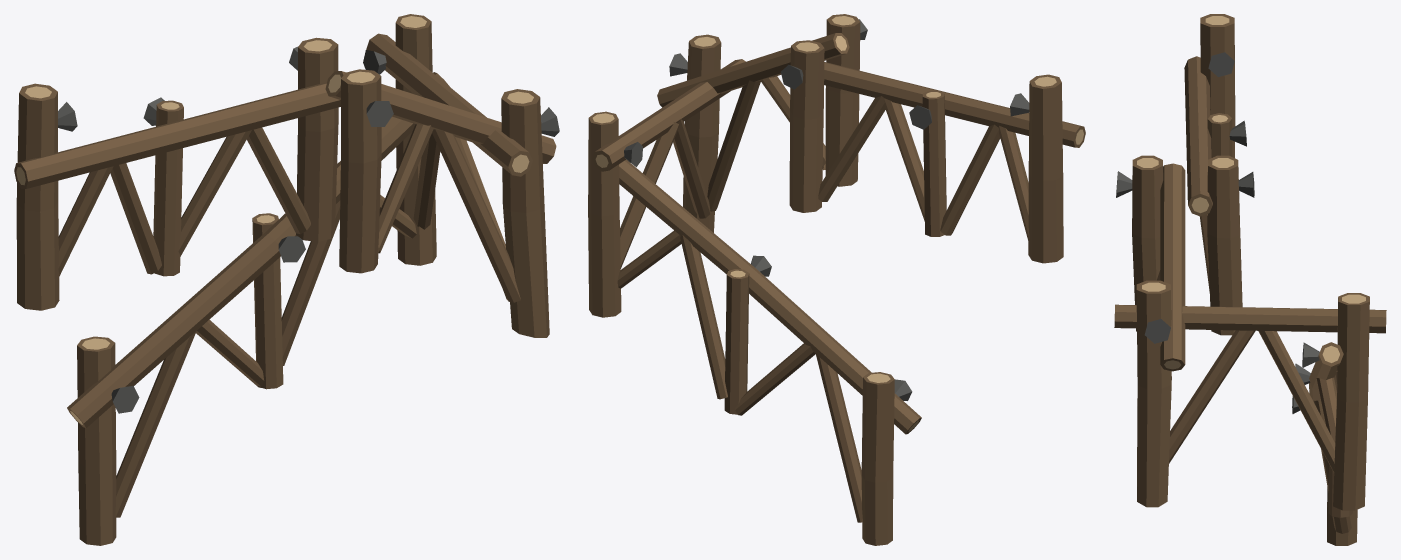
The model's file is rpgpp_ag_stairs_interior_02e_3m_handrail_02.fbx.
3 renders of one model, left to right at view 1: azimuth 30°, elevation 25°; view 2: azimuth 150°, elevation 25°; view 3: azimuth 270°, elevation 25°, orthographic. The views are drawn at different scales.
Visible parts, largest first — view 1: rpgpp_ag_stairs_interior_02e_3m_handrail_02; view 2: rpgpp_ag_stairs_interior_02e_3m_handrail_02; view 3: rpgpp_ag_stairs_interior_02e_3m_handrail_02.
Part boxes in pixels (left/top/right/bottom): rpgpp_ag_stairs_interior_02e_3m_handrail_02: left=14, top=14, right=559, bottom=545; rpgpp_ag_stairs_interior_02e_3m_handrail_02: left=588, top=14, right=1085, bottom=545; rpgpp_ag_stairs_interior_02e_3m_handrail_02: left=1114, top=14, right=1386, bottom=545.
Bounding box in the file's own units: 4.52 × 4.41 × 2.34.
